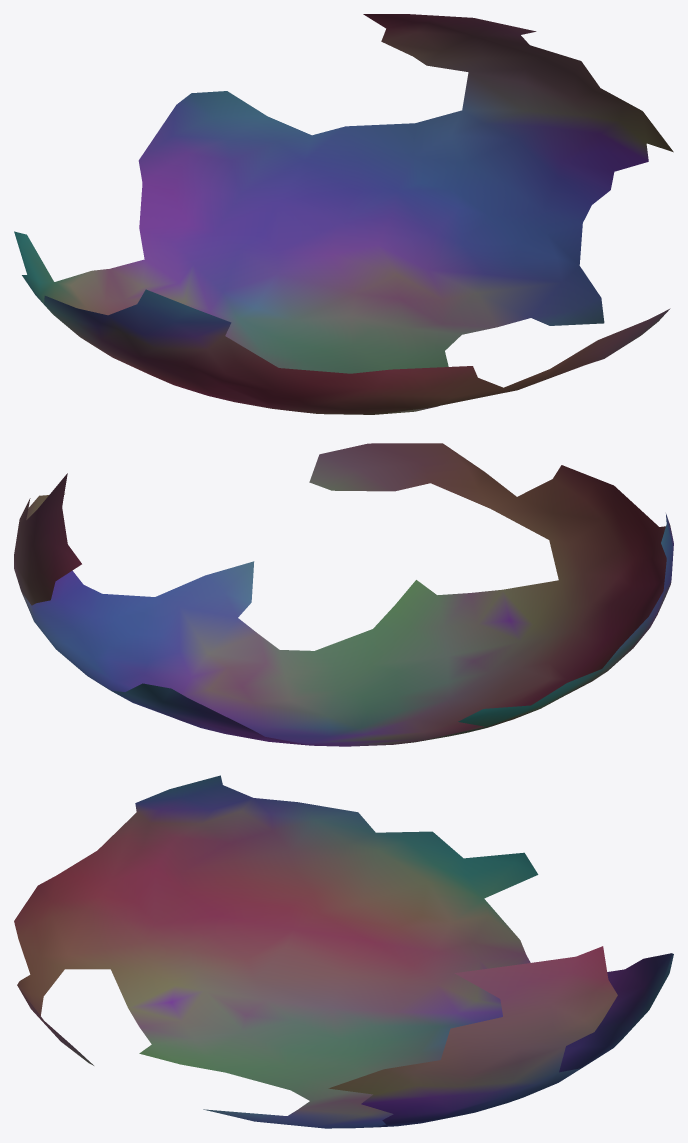
The model's file is space-galaxies-irregular-galaxy_v6.glb.
3 views of the same model, one above another, from view 1: azimuth 30°, elevation 25°; view 2: azimuth 150°, elevation 25°; view 3: azimuth 270°, elevation 25° (orthographic). The views are drawn at different scales.
Visible parts, largest first — view 1: Irregular Galaxy_v6; view 2: Irregular Galaxy_v6; view 3: Irregular Galaxy_v6.
Boxes of the visible parts, box(x1,y1,x2,y2) form: Irregular Galaxy_v6: box(14, 14, 673, 414); Irregular Galaxy_v6: box(14, 443, 673, 746); Irregular Galaxy_v6: box(14, 775, 673, 1128).
Bounding box in the file's own units: 0.5 × 0.1684 × 0.4958.
